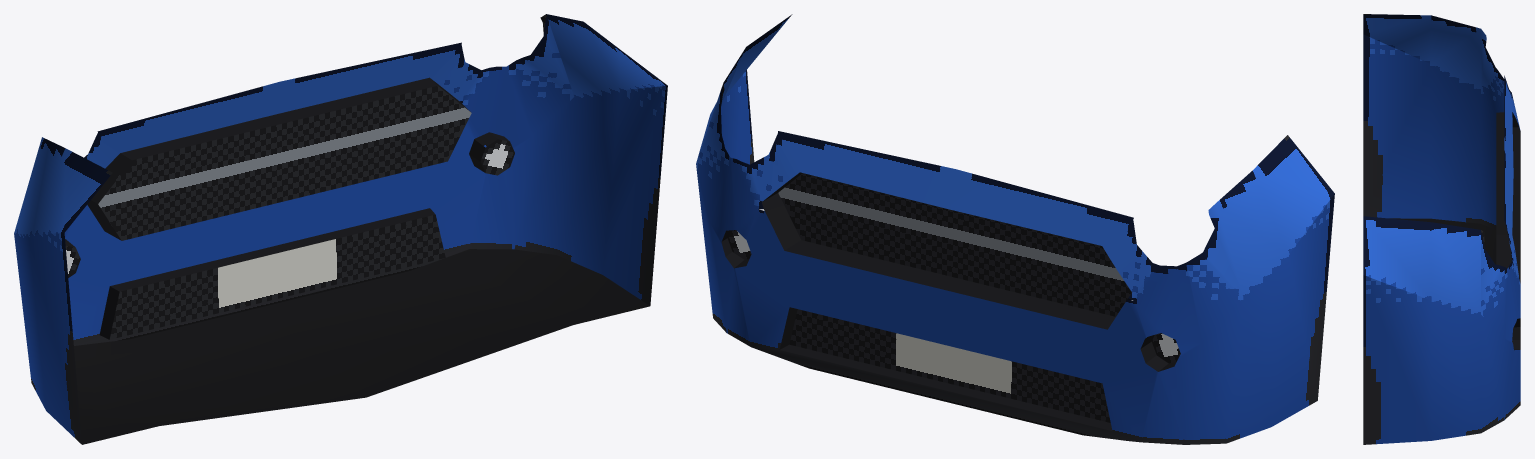
The model's file is bumper_F_stock.glb.
3 views of the same model, side by side, from view 1: azimuth 30°, elevation 25°; view 2: azimuth 150°, elevation 25°; view 3: azimuth 270°, elevation 25° (orthographic). The views are drawn at different scales.
Visible parts, largest first — view 1: bumper_F_stock; view 2: bumper_F_stock; view 3: bumper_F_stock.
Boxes of the visible parts, left/top/right/bottom form: bumper_F_stock: left=14, top=14, right=667, bottom=444; bumper_F_stock: left=696, top=14, right=1334, bottom=444; bumper_F_stock: left=1363, top=14, right=1520, bottom=444.
Bounding box in the file's own units: 1.72 × 0.7824 × 0.4765.
1 material, 1 textured.
